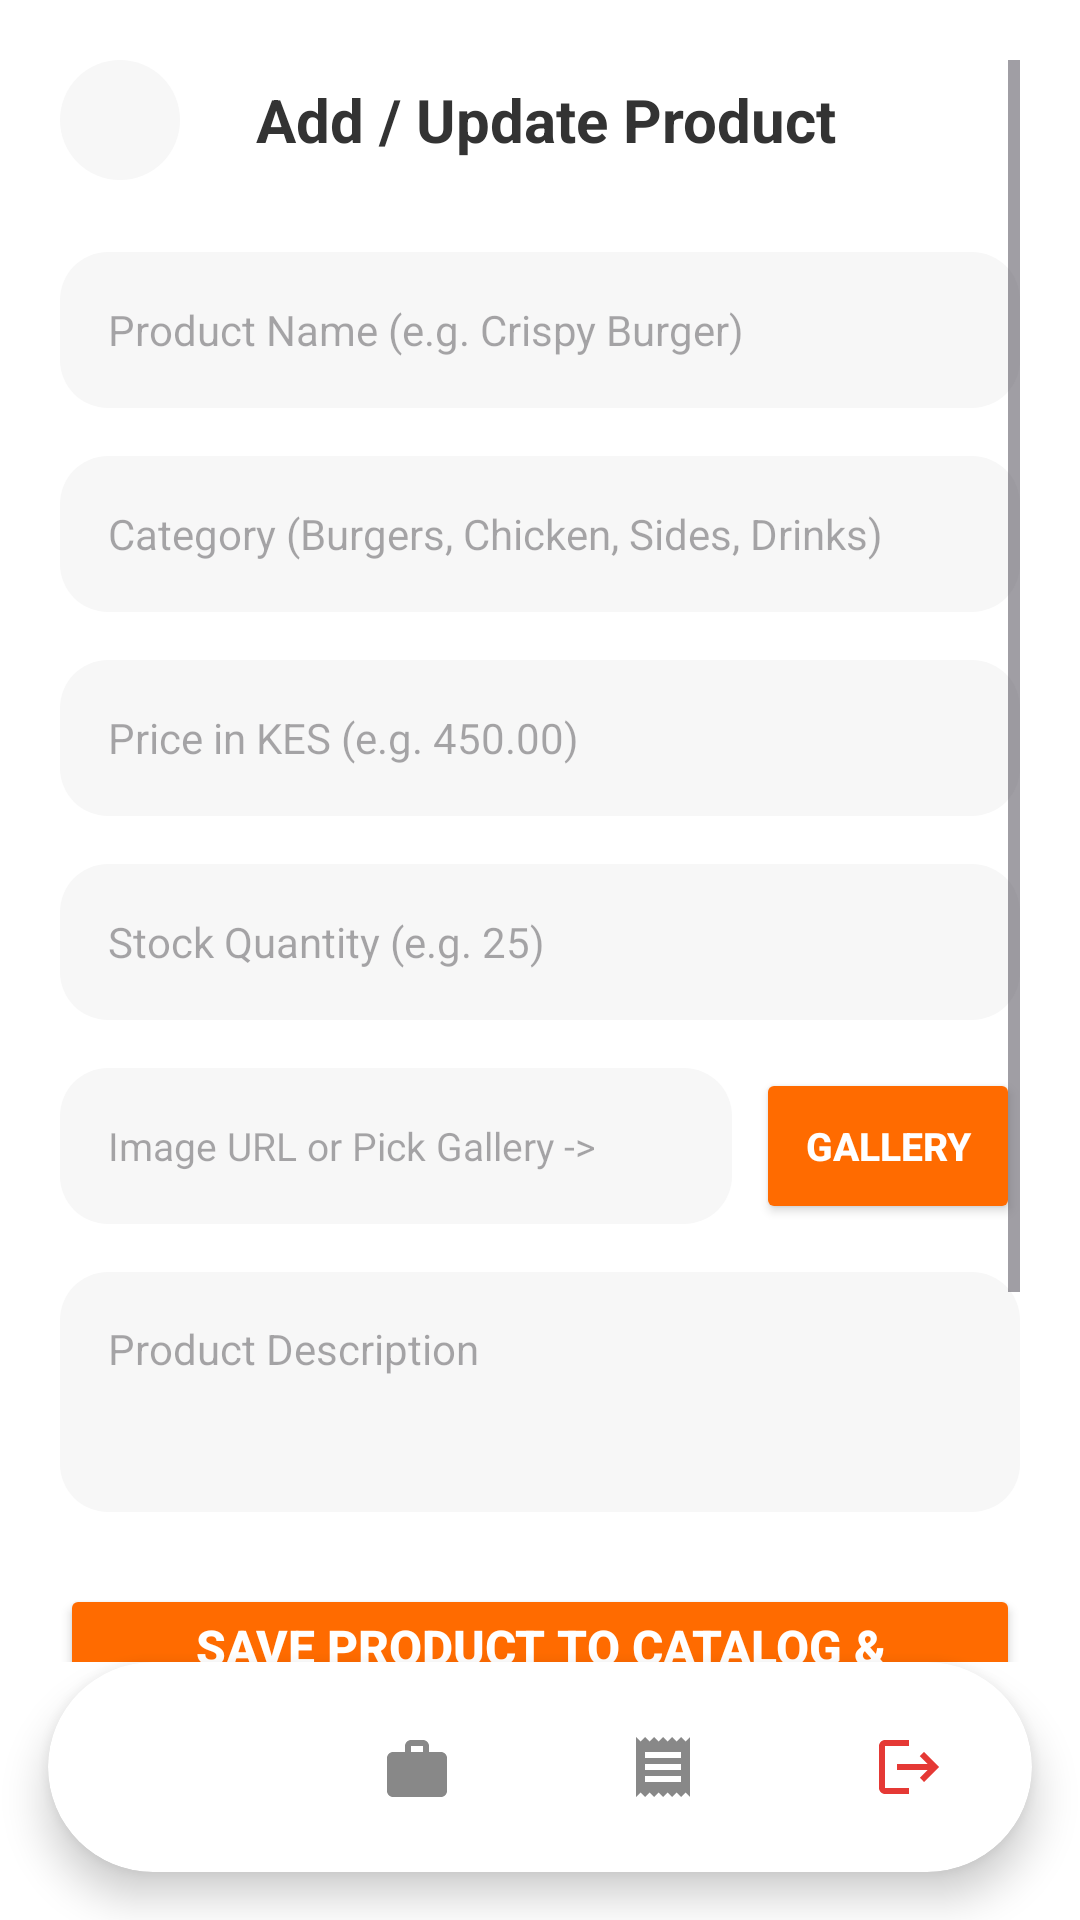

Named icons in this screenshot (1080w x 1920h) and their centers, point (x, y):
Admin Orders: point (663, 1767)
Admin Products: point (417, 1768)
